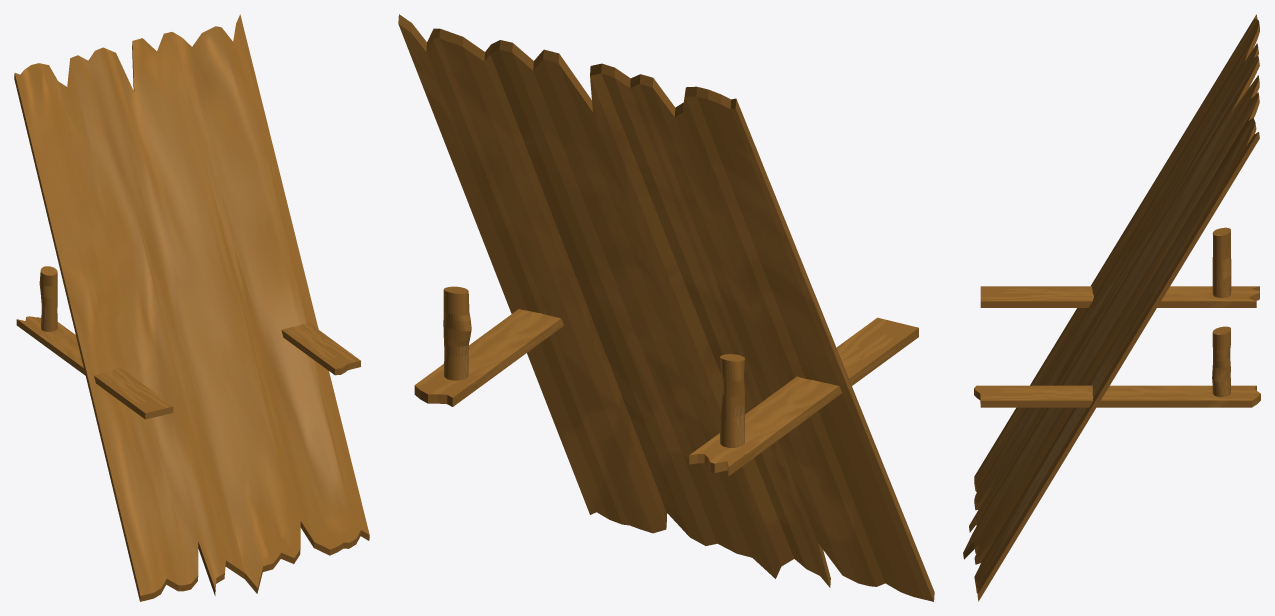
The model's file is Rump#2.fbx.
3 renders of one model, left to right at view 1: azimuth 30°, elevation 25°; view 2: azimuth 150°, elevation 25°; view 3: azimuth 270°, elevation 25°, orthographic. The views are drawn at different scales.
Parts seen in each view (by area): view 1: Cube.002, Cube.001, Cube, Cylinder.001; view 2: Cube.002, Cube.001, Cube, Cylinder, Cylinder.001; view 3: Cube.002, Cube, Cube.001, Cylinder.001, Cylinder.
Part boxes in pixels (left/top/right/bottom): Cube.002: left=14, top=14, right=369, bottom=601; Cube.001: left=16, top=316, right=173, bottom=419; Cube: left=281, top=323, right=360, bottom=375; Cylinder.001: left=39, top=266, right=57, bottom=331; Cube.002: left=398, top=14, right=934, bottom=601; Cube.001: left=689, top=317, right=918, bottom=476; Cube: left=414, top=309, right=563, bottom=406; Cylinder: left=443, top=286, right=471, bottom=380; Cylinder.001: left=720, top=354, right=744, bottom=447; Cube.002: left=963, top=14, right=1259, bottom=601; Cube: left=974, top=385, right=1260, bottom=407; Cube.001: left=980, top=286, right=1259, bottom=307; Cylinder.001: left=1212, top=227, right=1231, bottom=297; Cylinder: left=1212, top=326, right=1230, bottom=396.
Size of the model in its own units: 1031 by 1929 by 1060.
